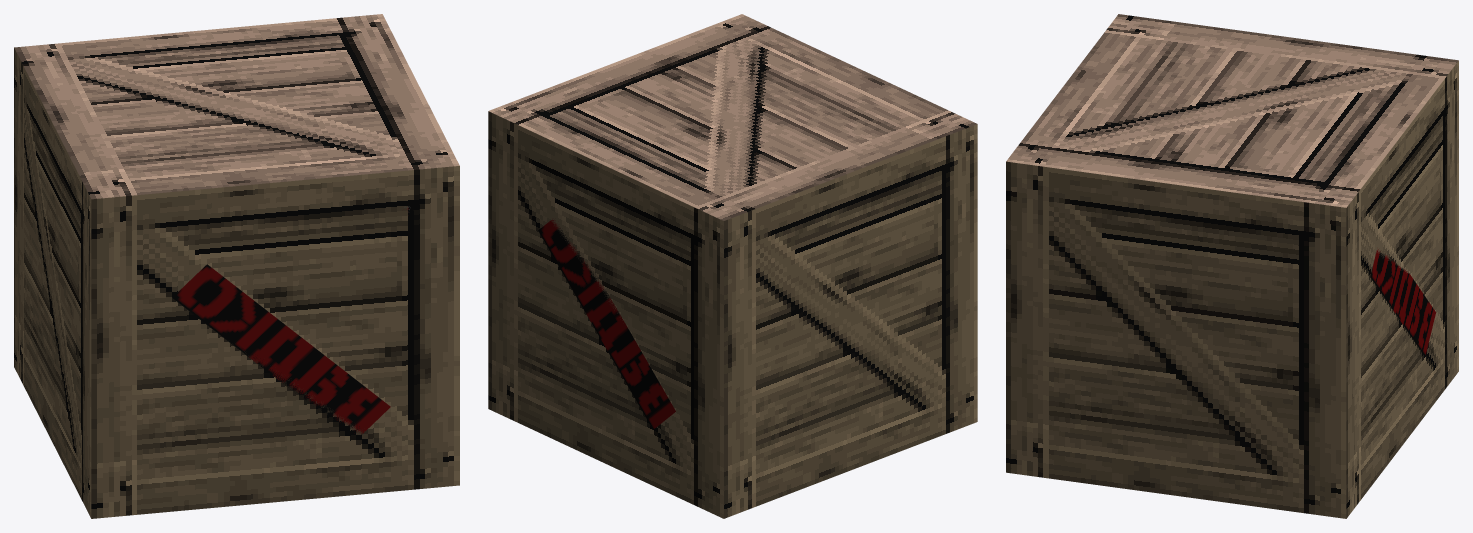
The model's file is primary_084.glb.
3 views of the same model, side by side, from view 1: azimuth 30°, elevation 25°; view 2: azimuth 150°, elevation 25°; view 3: azimuth 270°, elevation 25° (orthographic). The views are drawn at different scales.
Parts seen in each view (by area): view 1: Object; view 2: Object; view 3: Object.
Boxes of the visible parts, left/top/right/bottom form: Object: left=14, top=14, right=459, bottom=518; Object: left=488, top=14, right=977, bottom=518; Object: left=1006, top=14, right=1458, bottom=518.
Size of the model in its own units: 1.71 by 1.28 by 1.69.
Materials: 7 (7 with a texture image).
